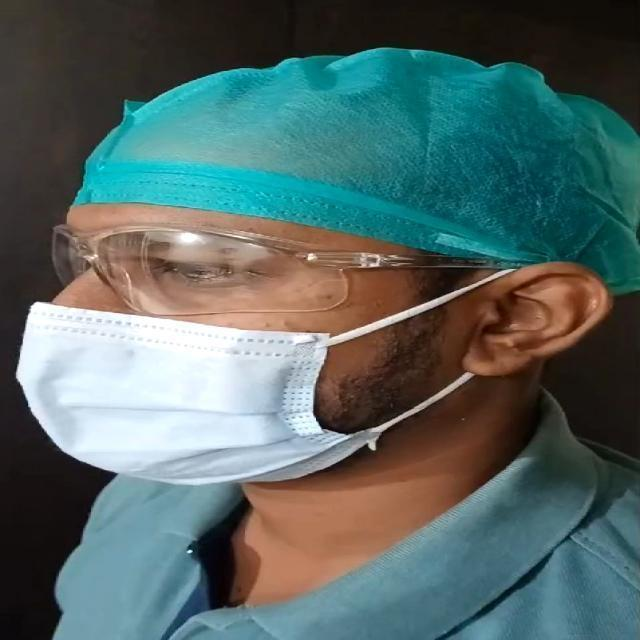gloves: (31, 23, 640, 327)
mask: (23, 307, 369, 510)
